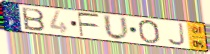4: (49, 9, 70, 35)
B: (20, 7, 46, 33)
F: (76, 12, 101, 38)
J: (167, 23, 187, 47)
O: (137, 19, 162, 44)
U: (102, 13, 131, 42)
